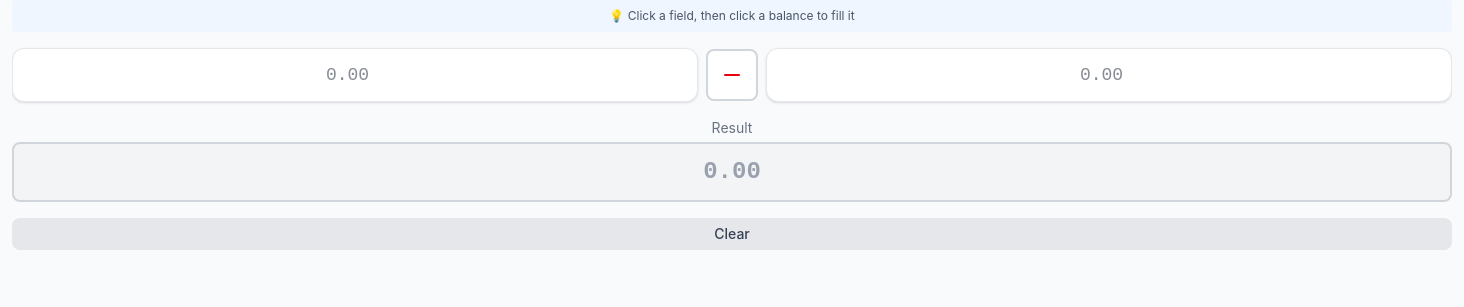
Test: QuickCalculator › clears both operands and the result when Clear is clicked
The image size is (1464, 307).
Type "10" into the number field named "first operand" at (355, 75), box x1=12 y1=48 x2=698 y2=102
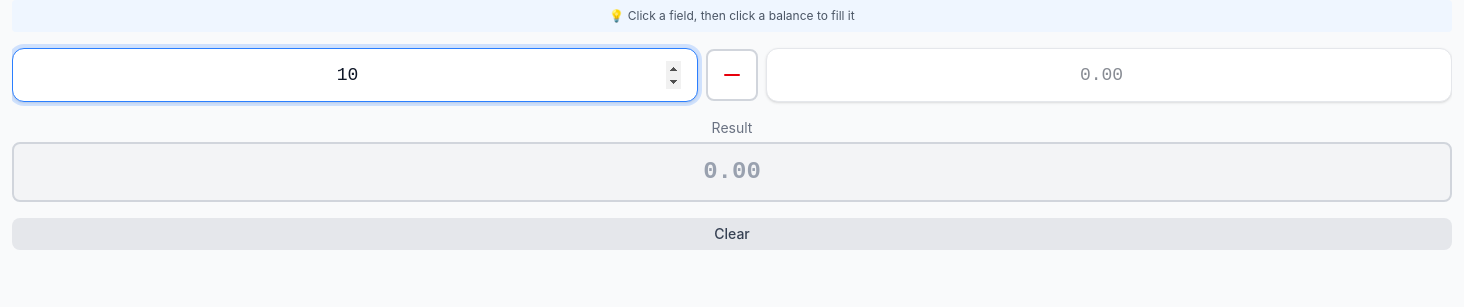
Type "5" into the number field named "second operand" at (1109, 75), box x1=766 y1=48 x2=1452 y2=102
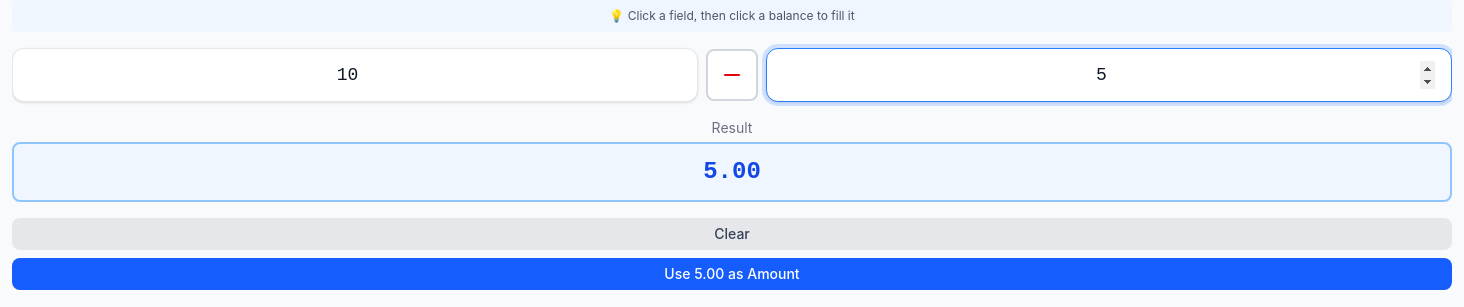
Result: the text "5.00" is shown at x1=12 y1=142 x2=1452 y2=202
Click the button "Clear" at (732, 234), box x1=12 y1=218 x2=1452 y2=250
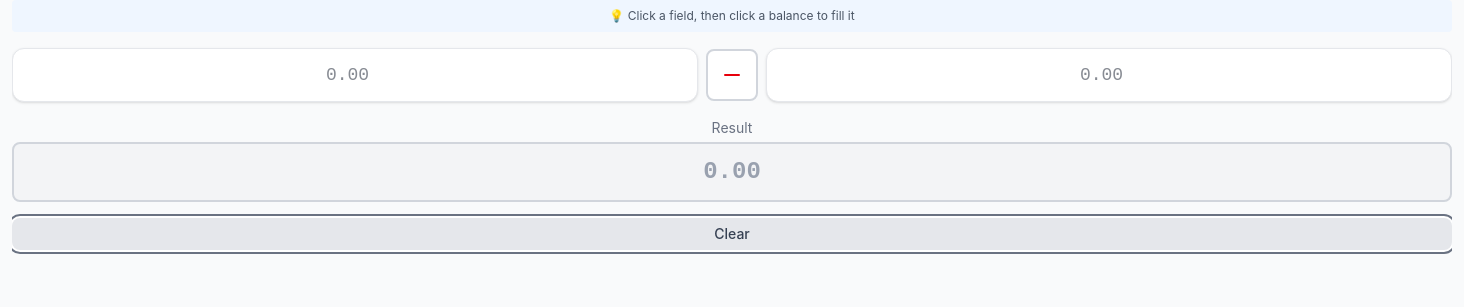
Result: the number field named "first operand" is not empty at x1=12 y1=48 x2=698 y2=102
Result: the number field named "second operand" is not empty at x1=766 y1=48 x2=1452 y2=102
Result: the text "0.00" is shown at x1=12 y1=142 x2=1452 y2=202
